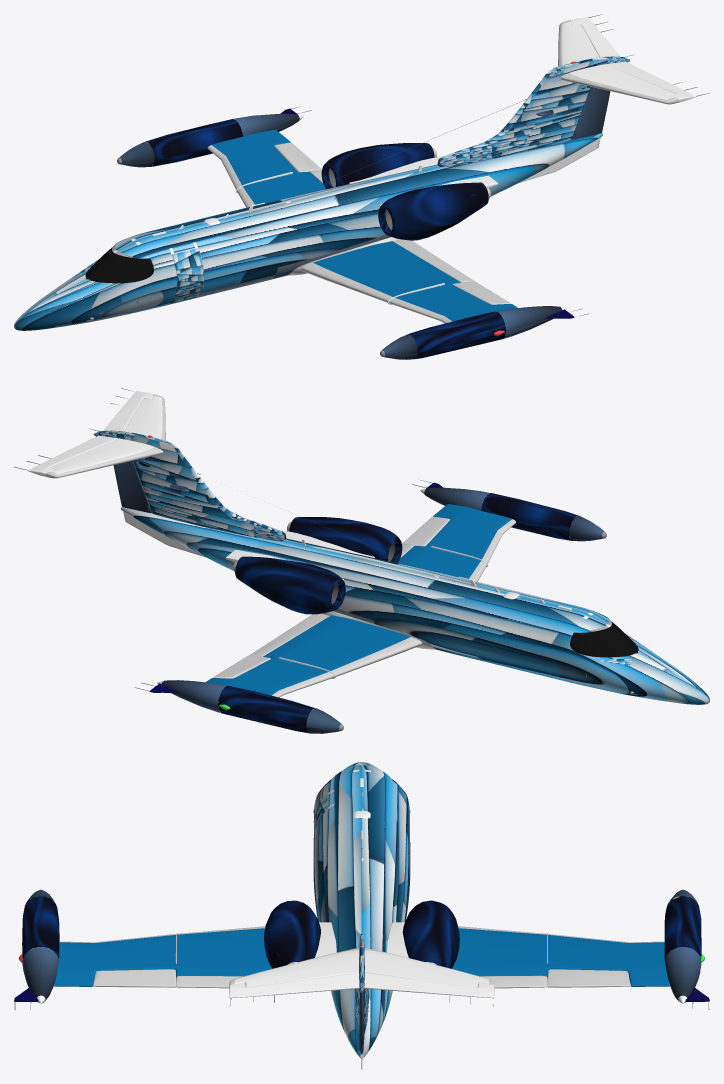
The model's file is bombardier_windjet_365_fast.glb.
3 renders of one model, top to bottom at view 1: azimuth 30°, elevation 25°; view 2: azimuth 150°, elevation 25°; view 3: azimuth 270°, elevation 25°, orthographic. The views are drawn at different scales.
Visible parts, largest first — view 1: Object_836, Object_128, Object_922, Object_1097, Object_1111, Object_1112, Object_860, Object_1079, Object_264, Object_841, Object_682, Object_835 (+8 smaller); view 2: Object_836, Object_128, Object_922, Object_1097, Object_1111, Object_1112, Object_860, Object_1079, Object_264, Object_841, Object_847, Object_827 (+6 smaller); view 3: Object_836, Object_128, Object_922, Object_860, Object_1111, Object_1112, Object_827, Object_817, Object_844, Object_849, Object_918, Object_1079 (+3 smaller).
Boxes of the visible parts, <box> form: Object_836: <box>14,132,602,330</box>; Object_128: <box>212,129,517,321</box>; Object_922: <box>321,143,488,240</box>; Object_1097: <box>438,56,628,166</box>; Object_1111: <box>145,119,505,358</box>; Object_1112: <box>119,113,562,359</box>; Object_860: <box>561,21,674,99</box>; Object_1079: <box>207,145,451,323</box>; Object_264: <box>85,247,153,283</box>; Object_841: <box>572,86,610,138</box>; Object_682: <box>172,248,203,291</box>; Object_835: <box>54,234,390,327</box>; Object_836: <box>121,507,709,704</box>; Object_128: <box>205,504,511,695</box>; Object_922: <box>235,517,402,614</box>; Object_1097: <box>95,430,284,541</box>; Object_1111: <box>218,493,578,733</box>; Object_1112: <box>162,487,604,733</box>; Object_860: <box>49,395,162,473</box>; Object_1079: <box>272,519,516,697</box>; Object_264: <box>570,621,638,657</box>; Object_841: <box>113,460,151,513</box>; Object_847: <box>45,394,165,478</box>; Object_827: <box>28,435,117,476</box>; Object_836: <box>313,762,410,1057</box>; Object_128: <box>53,928,670,986</box>; Object_922: <box>264,900,459,968</box>; Object_860: <box>235,950,488,987</box>; Object_1111: <box>22,896,701,959</box>; Object_1112: <box>22,889,701,1001</box>; Object_827: <box>364,972,494,998</box>; Object_817: <box>229,972,359,998</box>; Object_844: <box>93,969,176,987</box>; Object_849: <box>547,969,629,987</box>; Object_918: <box>315,922,408,957</box>; Object_1079: <box>59,926,664,942</box>.
Bounding box in the file's own units: 15.61 × 3.34 × 12.
Materials: 69 (27 with a texture image).
